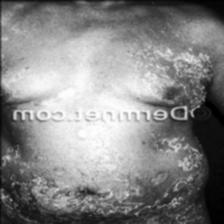Non-Cancerous Skin Condition: (16, 186, 132, 218), (160, 147, 200, 203), (175, 50, 213, 81)
